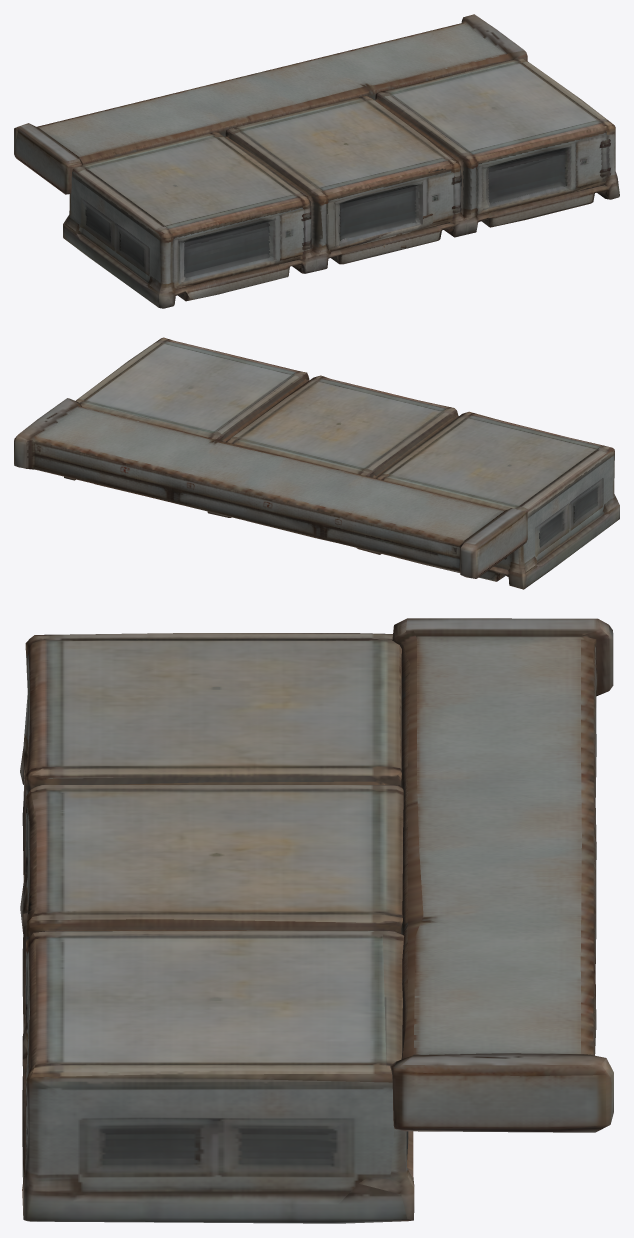
File: shelter_roof_filter_bank.glb
3 views of the same model, one above another, from view 1: azimuth 30°, elevation 25°; view 2: azimuth 150°, elevation 25°; view 3: azimuth 270°, elevation 25° (orthographic). The views are drawn at different scales.
Visible parts, largest first — view 1: RoofFilterBank; view 2: RoofFilterBank; view 3: RoofFilterBank.
Boxes of the visible parts, bbox=[...] form: RoofFilterBank: bbox=[14, 14, 619, 308]; RoofFilterBank: bbox=[14, 337, 619, 589]; RoofFilterBank: bbox=[20, 618, 613, 1223].
Bounding box in the file's own units: 9 × 1.5 × 5.
1 material, 1 textured.
